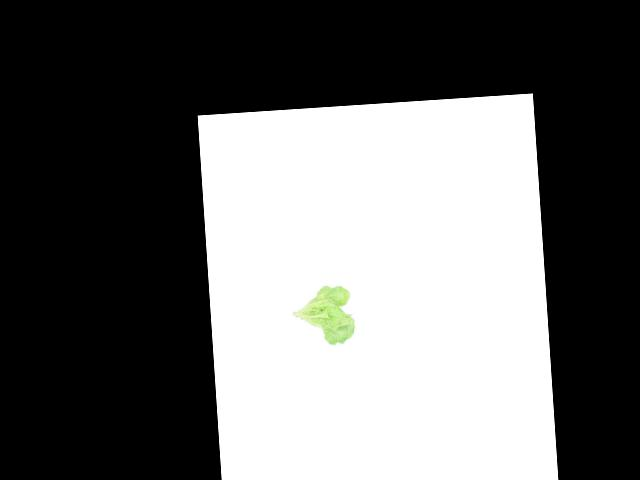lettuce: (289, 281, 360, 350)
